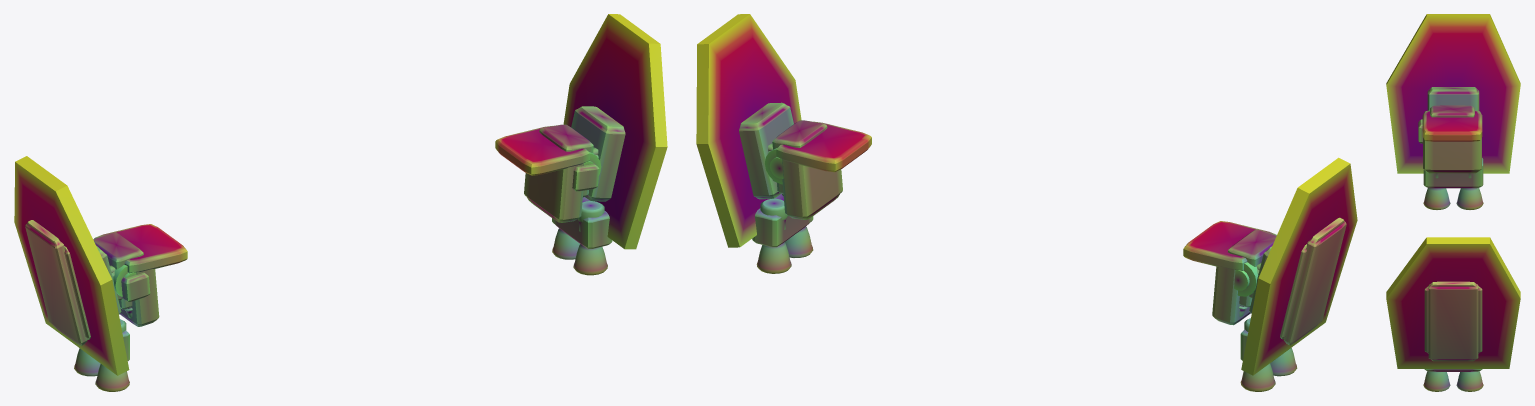
File: llm_gen_shoulder_pods_055_dd6a2b.glb
3 renders of one model, left to right at view 1: azimuth 30°, elevation 25°; view 2: azimuth 150°, elevation 25°; view 3: azimuth 270°, elevation 25°, orthographic. The views are drawn at different scales.
Parts seen in each view (by area): view 1: binder_shield_wing_2_wing_white_r, binder_shield_wing_2_wing_white_l, adapter_shoulder_yoke_r, binder_trim_blue_4_titanium_silver_l, adapter_shoulder_yoke_l, adapter_sub_wing_clevis_dark_1_adapter_dark_r, adapter_sub_exhaust_pod_dark_5_adapter_dark_r, adapter_sh_top_collar_dark_9_adapter_dark_l, adapter_sh_top_collar_dark_9_adapter_dark_r, binder_vernier_b_7_vernier_bell_vernier_r, adapter_sh_front_latch_dark_8_adapter_dark_l, binder_vernier_b_7_vernier_bell_vernier_l (+3 smaller); view 2: binder_shield_wing_2_wing_white_r, binder_shield_wing_2_wing_white_l, adapter_shoulder_yoke_r, adapter_shoulder_yoke_l, binder_trim_blue_4_titanium_silver_l, adapter_sub_wing_clevis_dark_1_adapter_dark_r, adapter_sub_exhaust_pod_dark_5_adapter_dark_r, adapter_sh_top_collar_dark_9_adapter_dark_l, adapter_sh_top_collar_dark_9_adapter_dark_r, binder_vernier_a_6_vernier_bell_vernier_r, binder_vernier_a_6_vernier_bell_vernier_l, binder_vernier_b_7_vernier_bell_vernier_r (+1 smaller); view 3: binder_shield_wing_2_wing_white_l, binder_shield_wing_2_wing_white_r, binder_trim_blue_4_titanium_silver_r, adapter_shoulder_yoke_l, adapter_sub_wing_clevis_dark_1_adapter_dark_l, adapter_sub_exhaust_pod_dark_5_adapter_dark_l, adapter_sub_trim_clamp_dark_3_adapter_dark_r, adapter_sh_top_collar_dark_9_adapter_dark_l, binder_vernier_a_6_vernier_bell_vernier_l, binder_vernier_b_7_vernier_bell_vernier_l, binder_vernier_a_6_vernier_bell_vernier_r, binder_vernier_b_7_vernier_bell_vernier_r (+1 smaller).
Boxes of the visible parts, left/top/right/bottom form: binder_shield_wing_2_wing_white_r: left=563, top=14, right=667, bottom=249; binder_shield_wing_2_wing_white_l: left=14, top=156, right=129, bottom=375; adapter_shoulder_yoke_r: left=495, top=126, right=601, bottom=222; binder_trim_blue_4_titanium_silver_l: left=25, top=220, right=87, bottom=345; adapter_shoulder_yoke_l: left=94, top=224, right=187, bottom=326; adapter_sub_wing_clevis_dark_1_adapter_dark_r: left=571, top=106, right=625, bottom=201; adapter_sub_exhaust_pod_dark_5_adapter_dark_r: left=552, top=197, right=612, bottom=248; adapter_sh_top_collar_dark_9_adapter_dark_l: left=93, top=232, right=143, bottom=269; adapter_sh_top_collar_dark_9_adapter_dark_r: left=539, top=124, right=593, bottom=153; binder_vernier_b_7_vernier_bell_vernier_r: left=573, top=244, right=607, bottom=275; adapter_sh_front_latch_dark_8_adapter_dark_l: left=120, top=272, right=150, bottom=301; binder_vernier_b_7_vernier_bell_vernier_l: left=95, top=364, right=129, bottom=391; binder_shield_wing_2_wing_white_r: left=696, top=14, right=801, bottom=247; binder_shield_wing_2_wing_white_l: left=1241, top=157, right=1357, bottom=375; adapter_shoulder_yoke_r: left=765, top=121, right=871, bottom=219; adapter_shoulder_yoke_l: left=1183, top=221, right=1276, bottom=325; binder_trim_blue_4_titanium_silver_l: left=1283, top=217, right=1346, bottom=345; adapter_sub_wing_clevis_dark_1_adapter_dark_r: left=739, top=102, right=793, bottom=199; adapter_sub_exhaust_pod_dark_5_adapter_dark_r: left=752, top=193, right=813, bottom=247; adapter_sh_top_collar_dark_9_adapter_dark_l: left=1228, top=229, right=1276, bottom=266; adapter_sh_top_collar_dark_9_adapter_dark_r: left=772, top=120, right=827, bottom=149; binder_vernier_a_6_vernier_bell_vernier_r: left=756, top=242, right=791, bottom=273; binder_vernier_a_6_vernier_bell_vernier_l: left=1240, top=363, right=1275, bottom=391; binder_vernier_b_7_vernier_bell_vernier_r: left=785, top=226, right=813, bottom=257; binder_shield_wing_2_wing_white_l: left=1386, top=14, right=1520, bottom=173; binder_shield_wing_2_wing_white_r: left=1386, top=237, right=1520, bottom=368; binder_trim_blue_4_titanium_silver_r: left=1428, top=281, right=1478, bottom=361; adapter_shoulder_yoke_l: left=1422, top=110, right=1482, bottom=173; adapter_sub_wing_clevis_dark_1_adapter_dark_l: left=1427, top=87, right=1479, bottom=110; adapter_sub_exhaust_pod_dark_5_adapter_dark_l: left=1423, top=158, right=1483, bottom=188; adapter_sub_trim_clamp_dark_3_adapter_dark_r: left=1424, top=286, right=1482, bottom=353; adapter_sh_top_collar_dark_9_adapter_dark_l: left=1430, top=105, right=1474, bottom=117; binder_vernier_a_6_vernier_bell_vernier_l: left=1456, top=188, right=1483, bottom=209; binder_vernier_b_7_vernier_bell_vernier_l: left=1423, top=188, right=1450, bottom=209; binder_vernier_a_6_vernier_bell_vernier_r: left=1456, top=371, right=1483, bottom=391; binder_vernier_b_7_vernier_bell_vernier_r: left=1423, top=371, right=1450, bottom=391.
Bounding box in the file's own units: 119 × 40.68 × 29.26.
